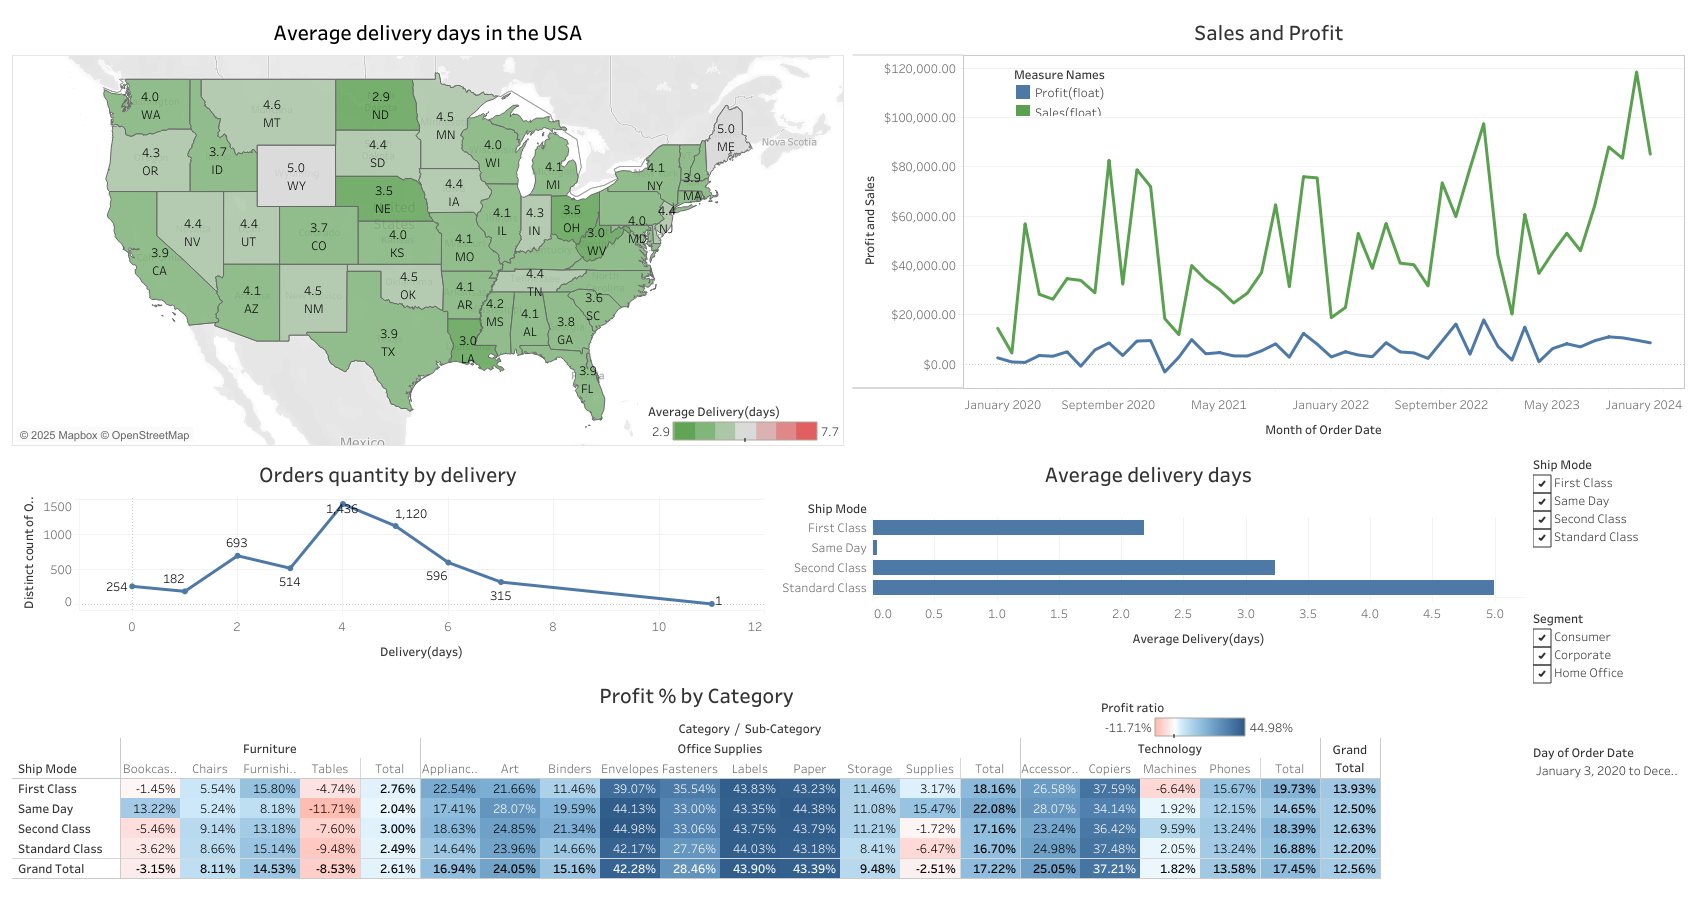

Layout of this report page (visuals, bound fields, positions):
{"tool":"tableau","page":{"name":"Dashboard 1","canvas":[1697,900],"ordinal":0},"visuals":[{"type":"worksheet","title":"Average delivery days in the USA","mark":"Automatic","box":[8,8,840.5,442]},{"type":"worksheet","title":"Sales & Profit by month","mark":"Automatic","rows":["Calculation_1055560865857626","Calculation_1055560868745310"],"cols":["Order Date"],"box":[848.5,8,840.5,442]},{"type":"legend","title":"Sales & Profit by month","param":"[federated.0oabtnf0hnnscm1aeb1rk0sxveo0].[:Measure Names]","box":[1013.3,63,196.5,53.1]},{"type":"legend","title":"Average delivery days in the USA","param":"[federated.0oabtnf0hnnscm1aeb1rk0sxveo0].[usr:Calculation_1055562209370146:qk]","box":[647.5,397.8,196.5,71.1]},{"type":"worksheet","title":"Orders quantity by delivery","mark":"Line","rows":["Order ID"],"cols":["Calculation_1055562236809223"],"box":[8,450,760.5,221]},{"type":"worksheet","title":"Average delivery days","mark":"Automatic","rows":["Ship Mode"],"cols":["Calculation_1055562209370146"],"box":[768.5,450,760.5,221]},{"type":"filter","title":"Sales & Profit by month","param":"[federated.0oabtnf0hnnscm1aeb1rk0sxveo0].[none:Ship Mode:nk]","box":[1529,450,160,154]},{"type":"filter","title":"Sales & Profit by month","param":"[federated.0oabtnf0hnnscm1aeb1rk0sxveo0].[none:Segment:nk]","box":[1529,604,160,134]},{"type":"worksheet","title":"Profit % by Category","mark":"Square","rows":["Ship Mode"],"cols":["Category","Sub-Category"],"box":[8,671,1521,221]},{"type":"legend","title":"Profit % by Category","param":"[federated.0oabtnf0hnnscm1aeb1rk0sxveo0].[usr:Calculation_1055562194751520:qk]","box":[1101.2,693.9,196.5,71.1]},{"type":"filter","title":"Sales & Profit by month","param":"[federated.0oabtnf0hnnscm1aeb1rk0sxveo0].[tdy:Order Date:qk]","box":[1529,738,160,70]}]}

Visuals, with their boxes in screenshot pixels (x1, y1, x2, y2), scaled from the page's 1697x900 canvas onto the 1696x899 screenshot:
"Average delivery days in the USA" worksheet: box(8, 8, 848, 450)
"Sales & Profit by month" worksheet: box(848, 8, 1688, 450)
"Sales & Profit by month" legend: box(1013, 63, 1209, 116)
"Average delivery days in the USA" legend: box(647, 397, 844, 468)
"Orders quantity by delivery" worksheet (Line marks): box(8, 450, 768, 670)
"Average delivery days" worksheet: box(768, 450, 1528, 670)
"Sales & Profit by month" filter: box(1528, 450, 1688, 603)
"Sales & Profit by month" filter: box(1528, 603, 1688, 737)
"Profit % by Category" worksheet (Square marks): box(8, 670, 1528, 891)
"Profit % by Category" legend: box(1101, 693, 1297, 764)
"Sales & Profit by month" filter: box(1528, 737, 1688, 807)
